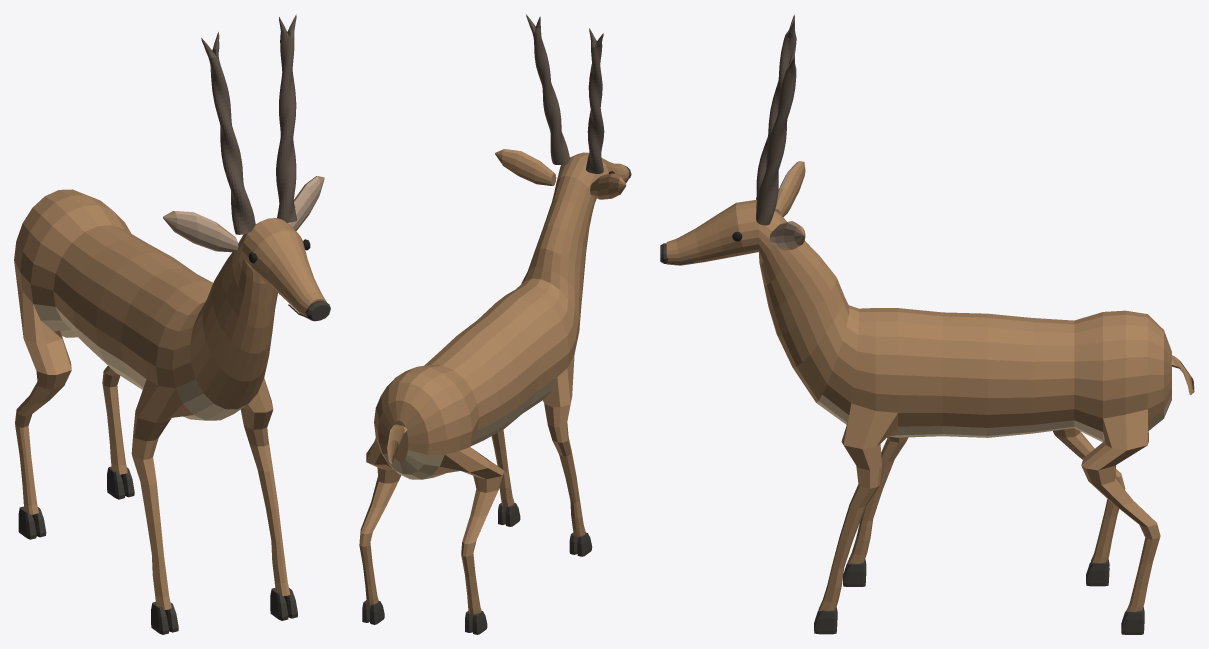
The picture shows the model from 3 angles, left to right: view 1: azimuth 30°, elevation 25°; view 2: azimuth 150°, elevation 25°; view 3: azimuth 270°, elevation 25°; orthographic projection. The views are drawn at different scales.
Visible parts, largest first — view 1: Body_neck_head_and_stitched_limbs, Solid_twisted_horn_R, Solid_twisted_horn_L, Ear_L, Ear_R, Hoof_1_inner, Hoof_2_inner, Hoof_3_inner, Hoof_0_inner; view 2: Body_neck_head_and_stitched_limbs, Solid_twisted_horn_R, Solid_twisted_horn_L, Ear_R, Ear_L, Short_tail; view 3: Body_neck_head_and_stitched_limbs, Solid_twisted_horn_R, Solid_twisted_horn_L, Ear_L, Ear_R.
Part boxes in pixels (left/top/right/bottom): Body_neck_head_and_stitched_limbs: left=14, top=189, right=326, bottom=609; Solid_twisted_horn_R: left=276, top=14, right=296, bottom=222; Solid_twisted_horn_L: left=201, top=32, right=255, bottom=234; Ear_L: left=163, top=211, right=238, bottom=252; Ear_R: left=288, top=176, right=324, bottom=231; Hoof_1_inner: left=18, top=506, right=36, bottom=539; Hoof_2_inner: left=270, top=588, right=288, bottom=620; Hoof_3_inner: left=151, top=602, right=169, bottom=634; Hoof_0_inner: left=107, top=466, right=125, bottom=499; Body_neck_head_and_stitched_limbs: left=359, top=152, right=629, bottom=615; Solid_twisted_horn_R: left=526, top=14, right=569, bottom=164; Solid_twisted_horn_L: left=586, top=28, right=604, bottom=173; Ear_R: left=495, top=149, right=556, bottom=185; Ear_L: left=590, top=173, right=626, bottom=199; Short_tail: left=387, top=424, right=407, bottom=464; Body_neck_head_and_stitched_limbs: left=666, top=199, right=1171, bottom=612; Solid_twisted_horn_R: left=756, top=48, right=796, bottom=225; Solid_twisted_horn_L: left=756, top=14, right=796, bottom=199; Ear_L: left=775, top=161, right=805, bottom=217; Ear_R: left=769, top=221, right=805, bottom=250.
Bounding box in the file's own units: 0.54 × 1.97 × 1.67.
